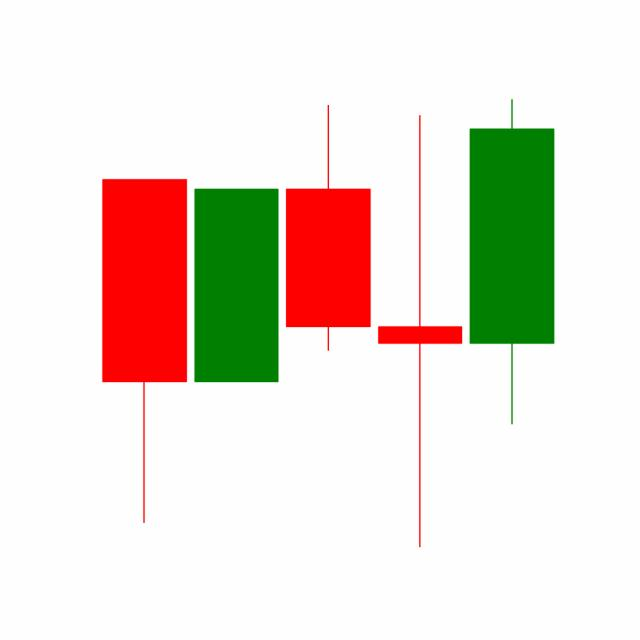Spinning Top: (373, 109, 467, 552)
